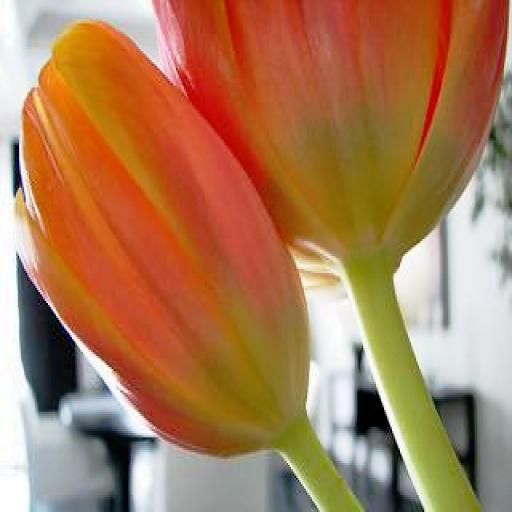tulip: (13, 19, 310, 459)
